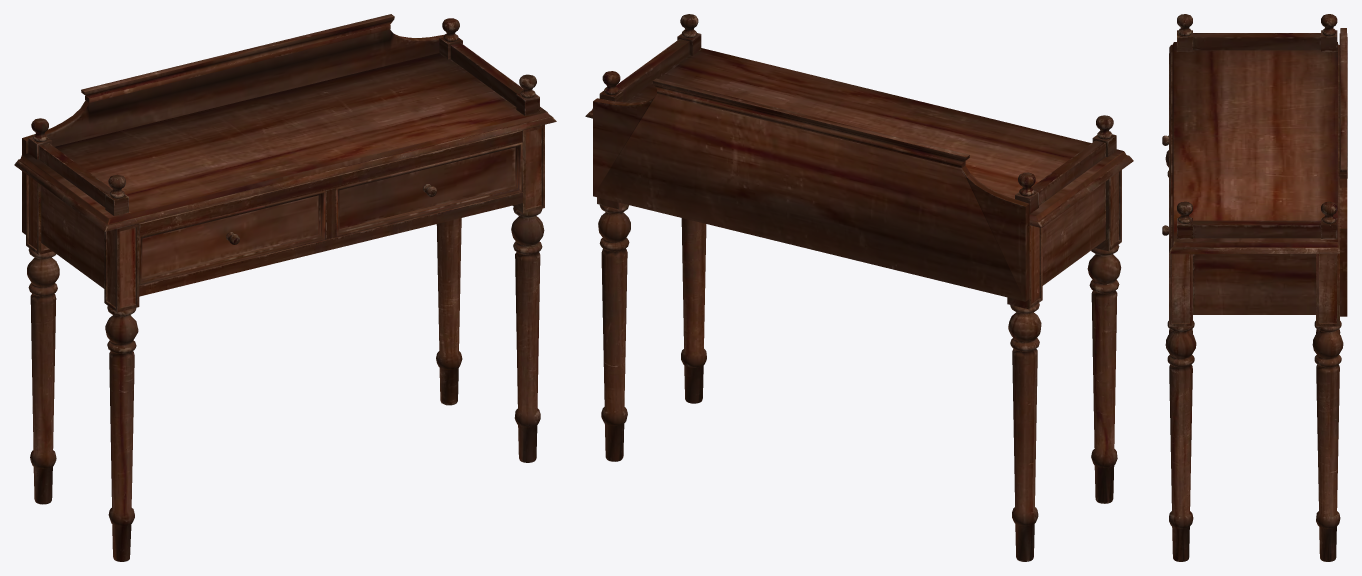
File: victorian_antique_wooden_table__game_ready.glb
The picture shows the model from 3 angles, left to right: view 1: azimuth 30°, elevation 25°; view 2: azimuth 150°, elevation 25°; view 3: azimuth 270°, elevation 25°; orthographic projection. The views are drawn at different scales.
Visible parts, largest first — view 1: defaultMaterial (×3); view 2: defaultMaterial; view 3: defaultMaterial.
Boxes of the visible parts, <box> form: defaultMaterial (×3): <box>14,14,556,561</box>; defaultMaterial: <box>585,14,1133,561</box>; defaultMaterial: <box>1165,14,1347,561</box>.
Bounding box in the file's own units: 137 × 114 × 51.91.
Materials: 1 (1 with a texture image).
